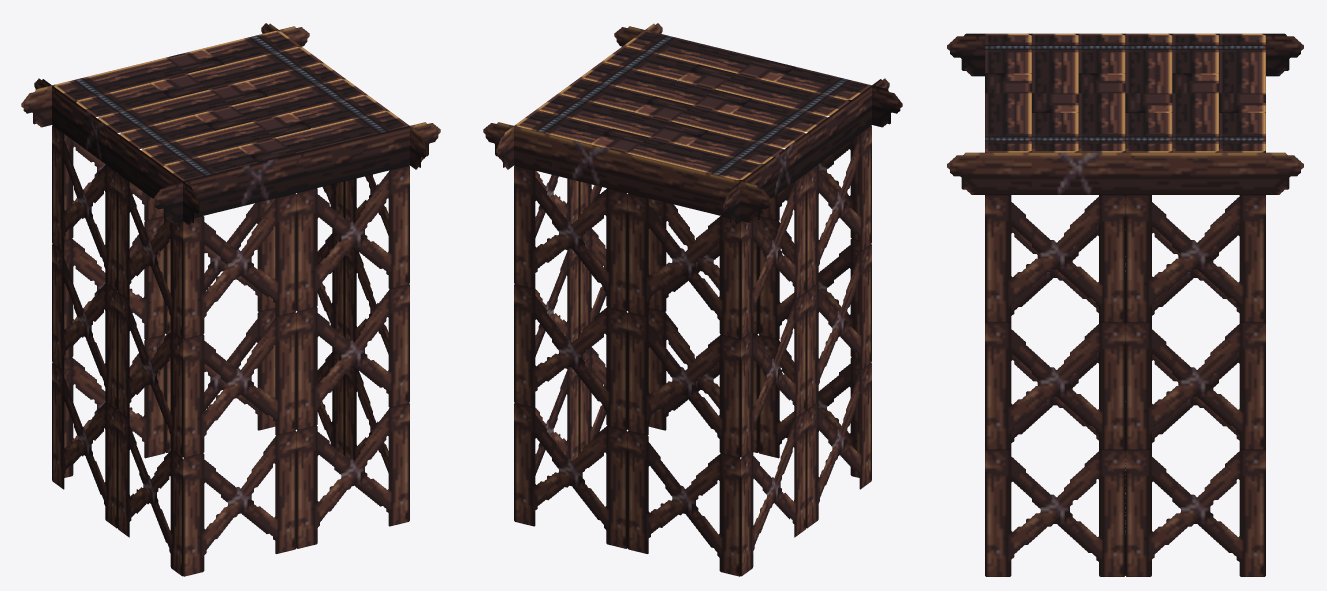
Rendered from Watchtower.obj.
3 views of the same model, side by side, from view 1: azimuth 30°, elevation 25°; view 2: azimuth 150°, elevation 25°; view 3: azimuth 270°, elevation 25° (orthographic). The views are drawn at different scales.
Visible parts, largest first — view 1: Default; view 2: Default; view 3: Default.
Part boxes in pixels (box(x1,y1,x2,y2)): Default: box(21, 23, 440, 576); Default: box(483, 23, 902, 576); Default: box(947, 33, 1303, 576).
Bounding box in the file's own units: 8 × 10 × 8.
